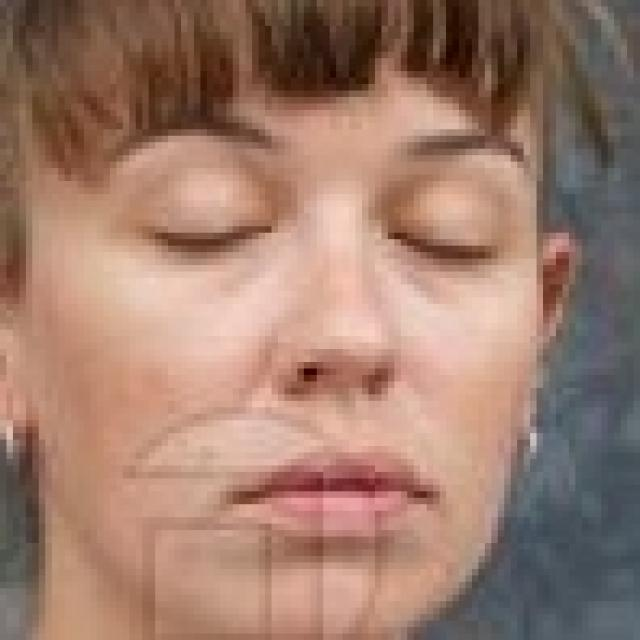close: (95, 100, 284, 285), (371, 123, 532, 293)
